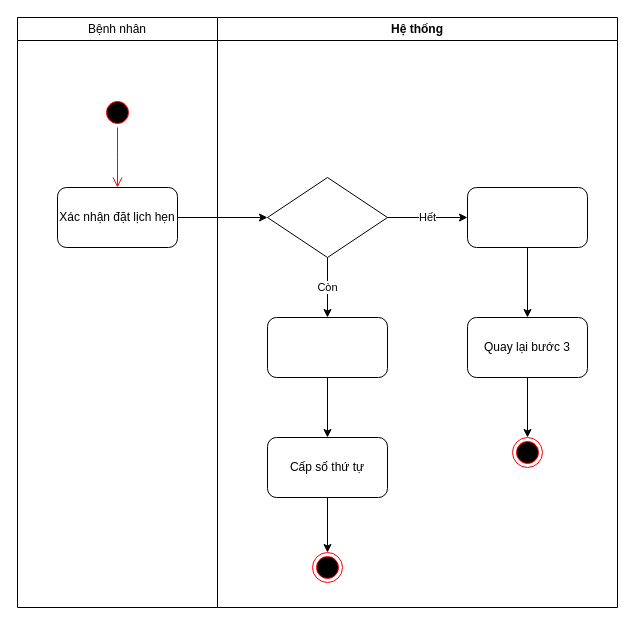
This 635x625 diagram has some shape labels left out. Here are the shapes that lost their labels. From the top down, the box of each, then its label:
(266, 176, 388, 258): Kiểm tra khung giờ
(466, 186, 588, 248): Thông báo khung giờ hết chỗ
(266, 316, 388, 378): Tạo lịch hẹn
